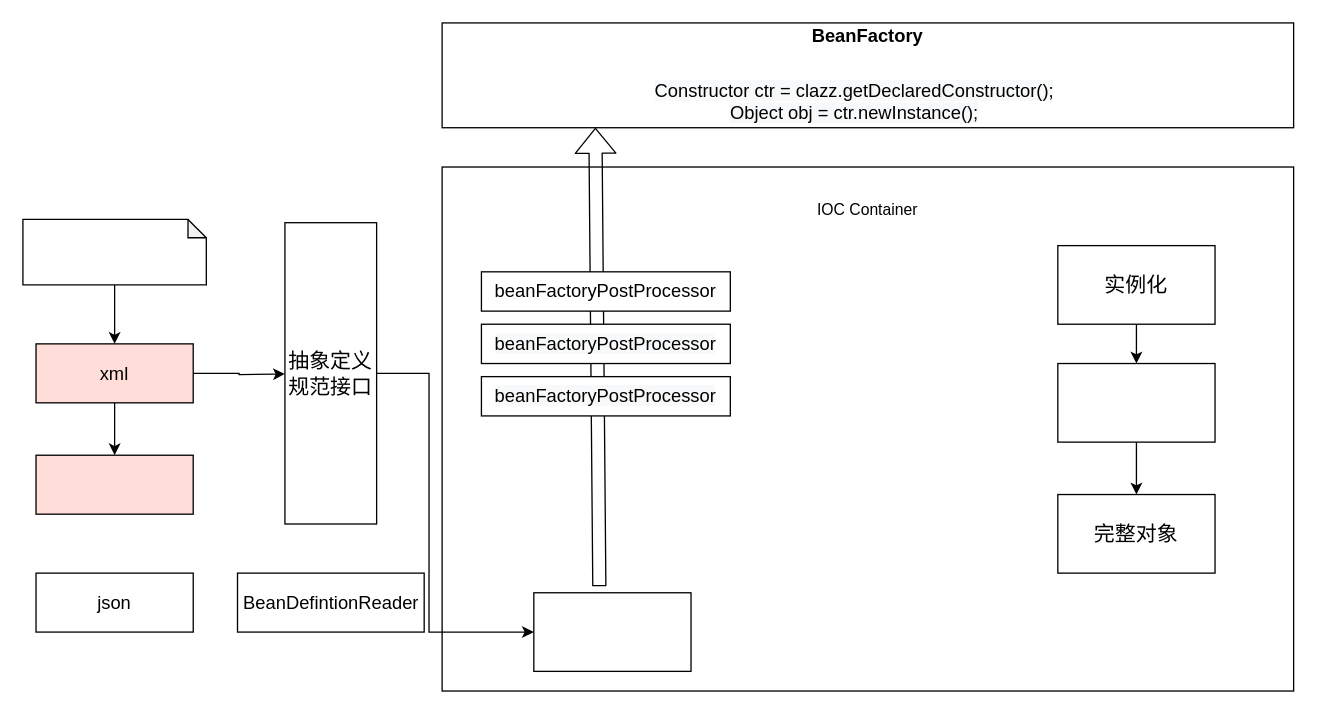
Image size: 1317x714. Some labels were removed from this diagram. Each missing label, with the box of its shape:
BeanDefinition bean的定义信息: (533, 591, 691, 671)
bean的定义信息: (22, 218, 206, 285)
初始化: (1057, 362, 1215, 442)
注解: (35, 454, 193, 514)
